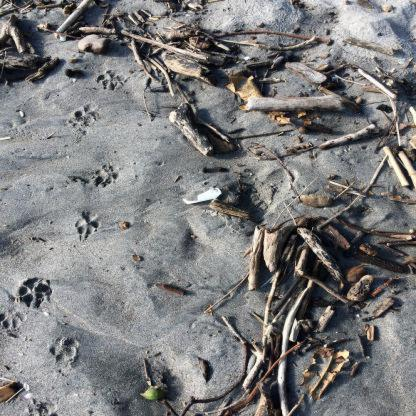Bottle: (59, 34, 66, 41)
Other plastic: (183, 188, 221, 205)
